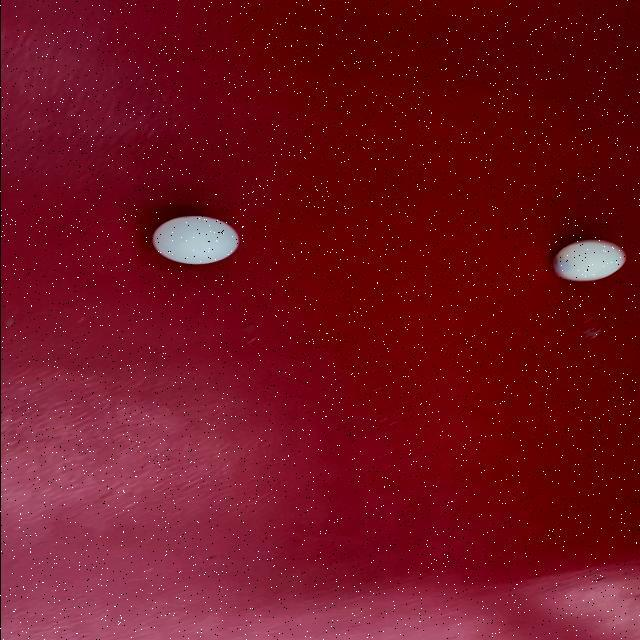ping-pong-ball: (149, 214, 241, 266), (548, 238, 628, 282)
